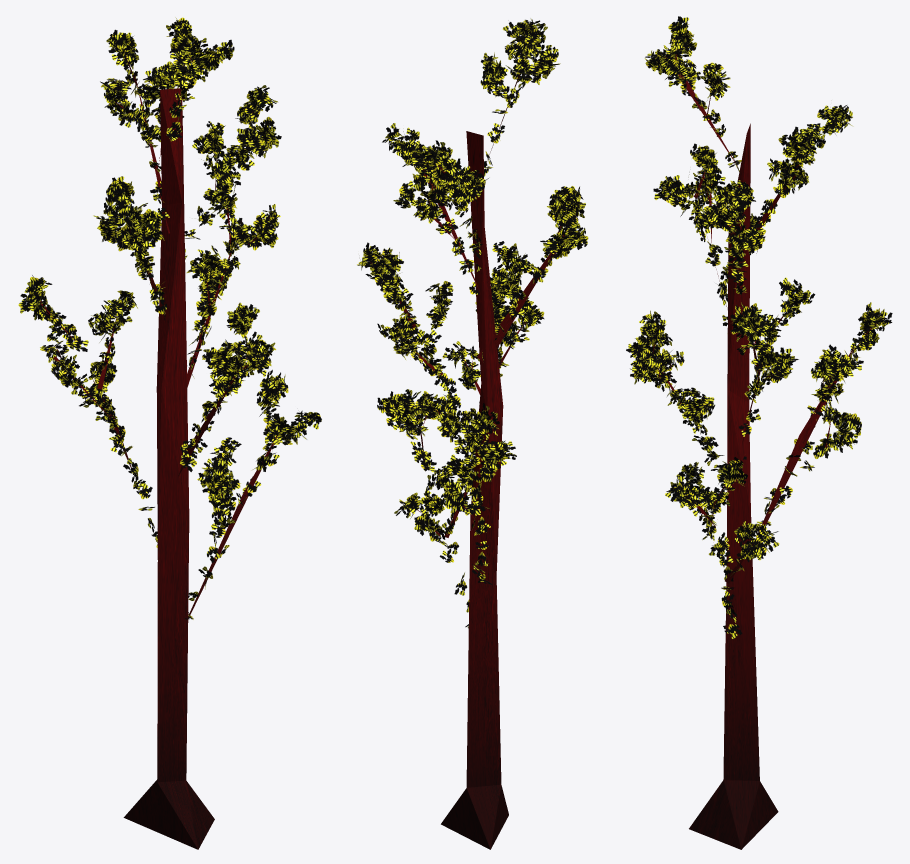
Rendered from baldcypress_v03_LOD2.glb.
3 renders of one model, left to right at view 1: azimuth 30°, elevation 25°; view 2: azimuth 150°, elevation 25°; view 3: azimuth 270°, elevation 25°, orthographic. The views are drawn at different scales.
Visible parts, largest first — view 1: baldcypress_v03_LOD2; view 2: baldcypress_v03_LOD2; view 3: baldcypress_v03_LOD2.
Boxes of the visible parts, x1=… form: baldcypress_v03_LOD2: x1=18, y1=17, x2=321, y2=849; baldcypress_v03_LOD2: x1=357, y1=18, x2=588, y2=849; baldcypress_v03_LOD2: x1=626, y1=16, x2=892, y2=849.
Size of the model in its own units: 8.63 by 31.85 by 9.78.
Materials: 2 (2 with a texture image).
